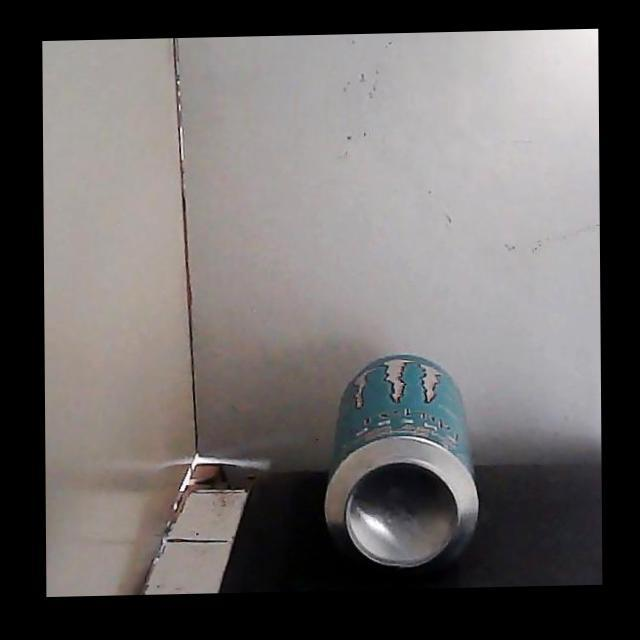metal: (324, 354, 478, 569)
